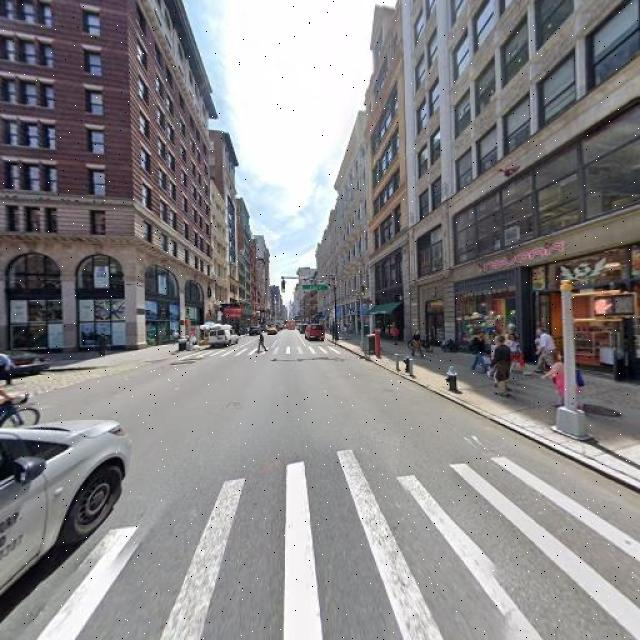Building: (373, 1, 640, 383), (1, 1, 213, 359)
